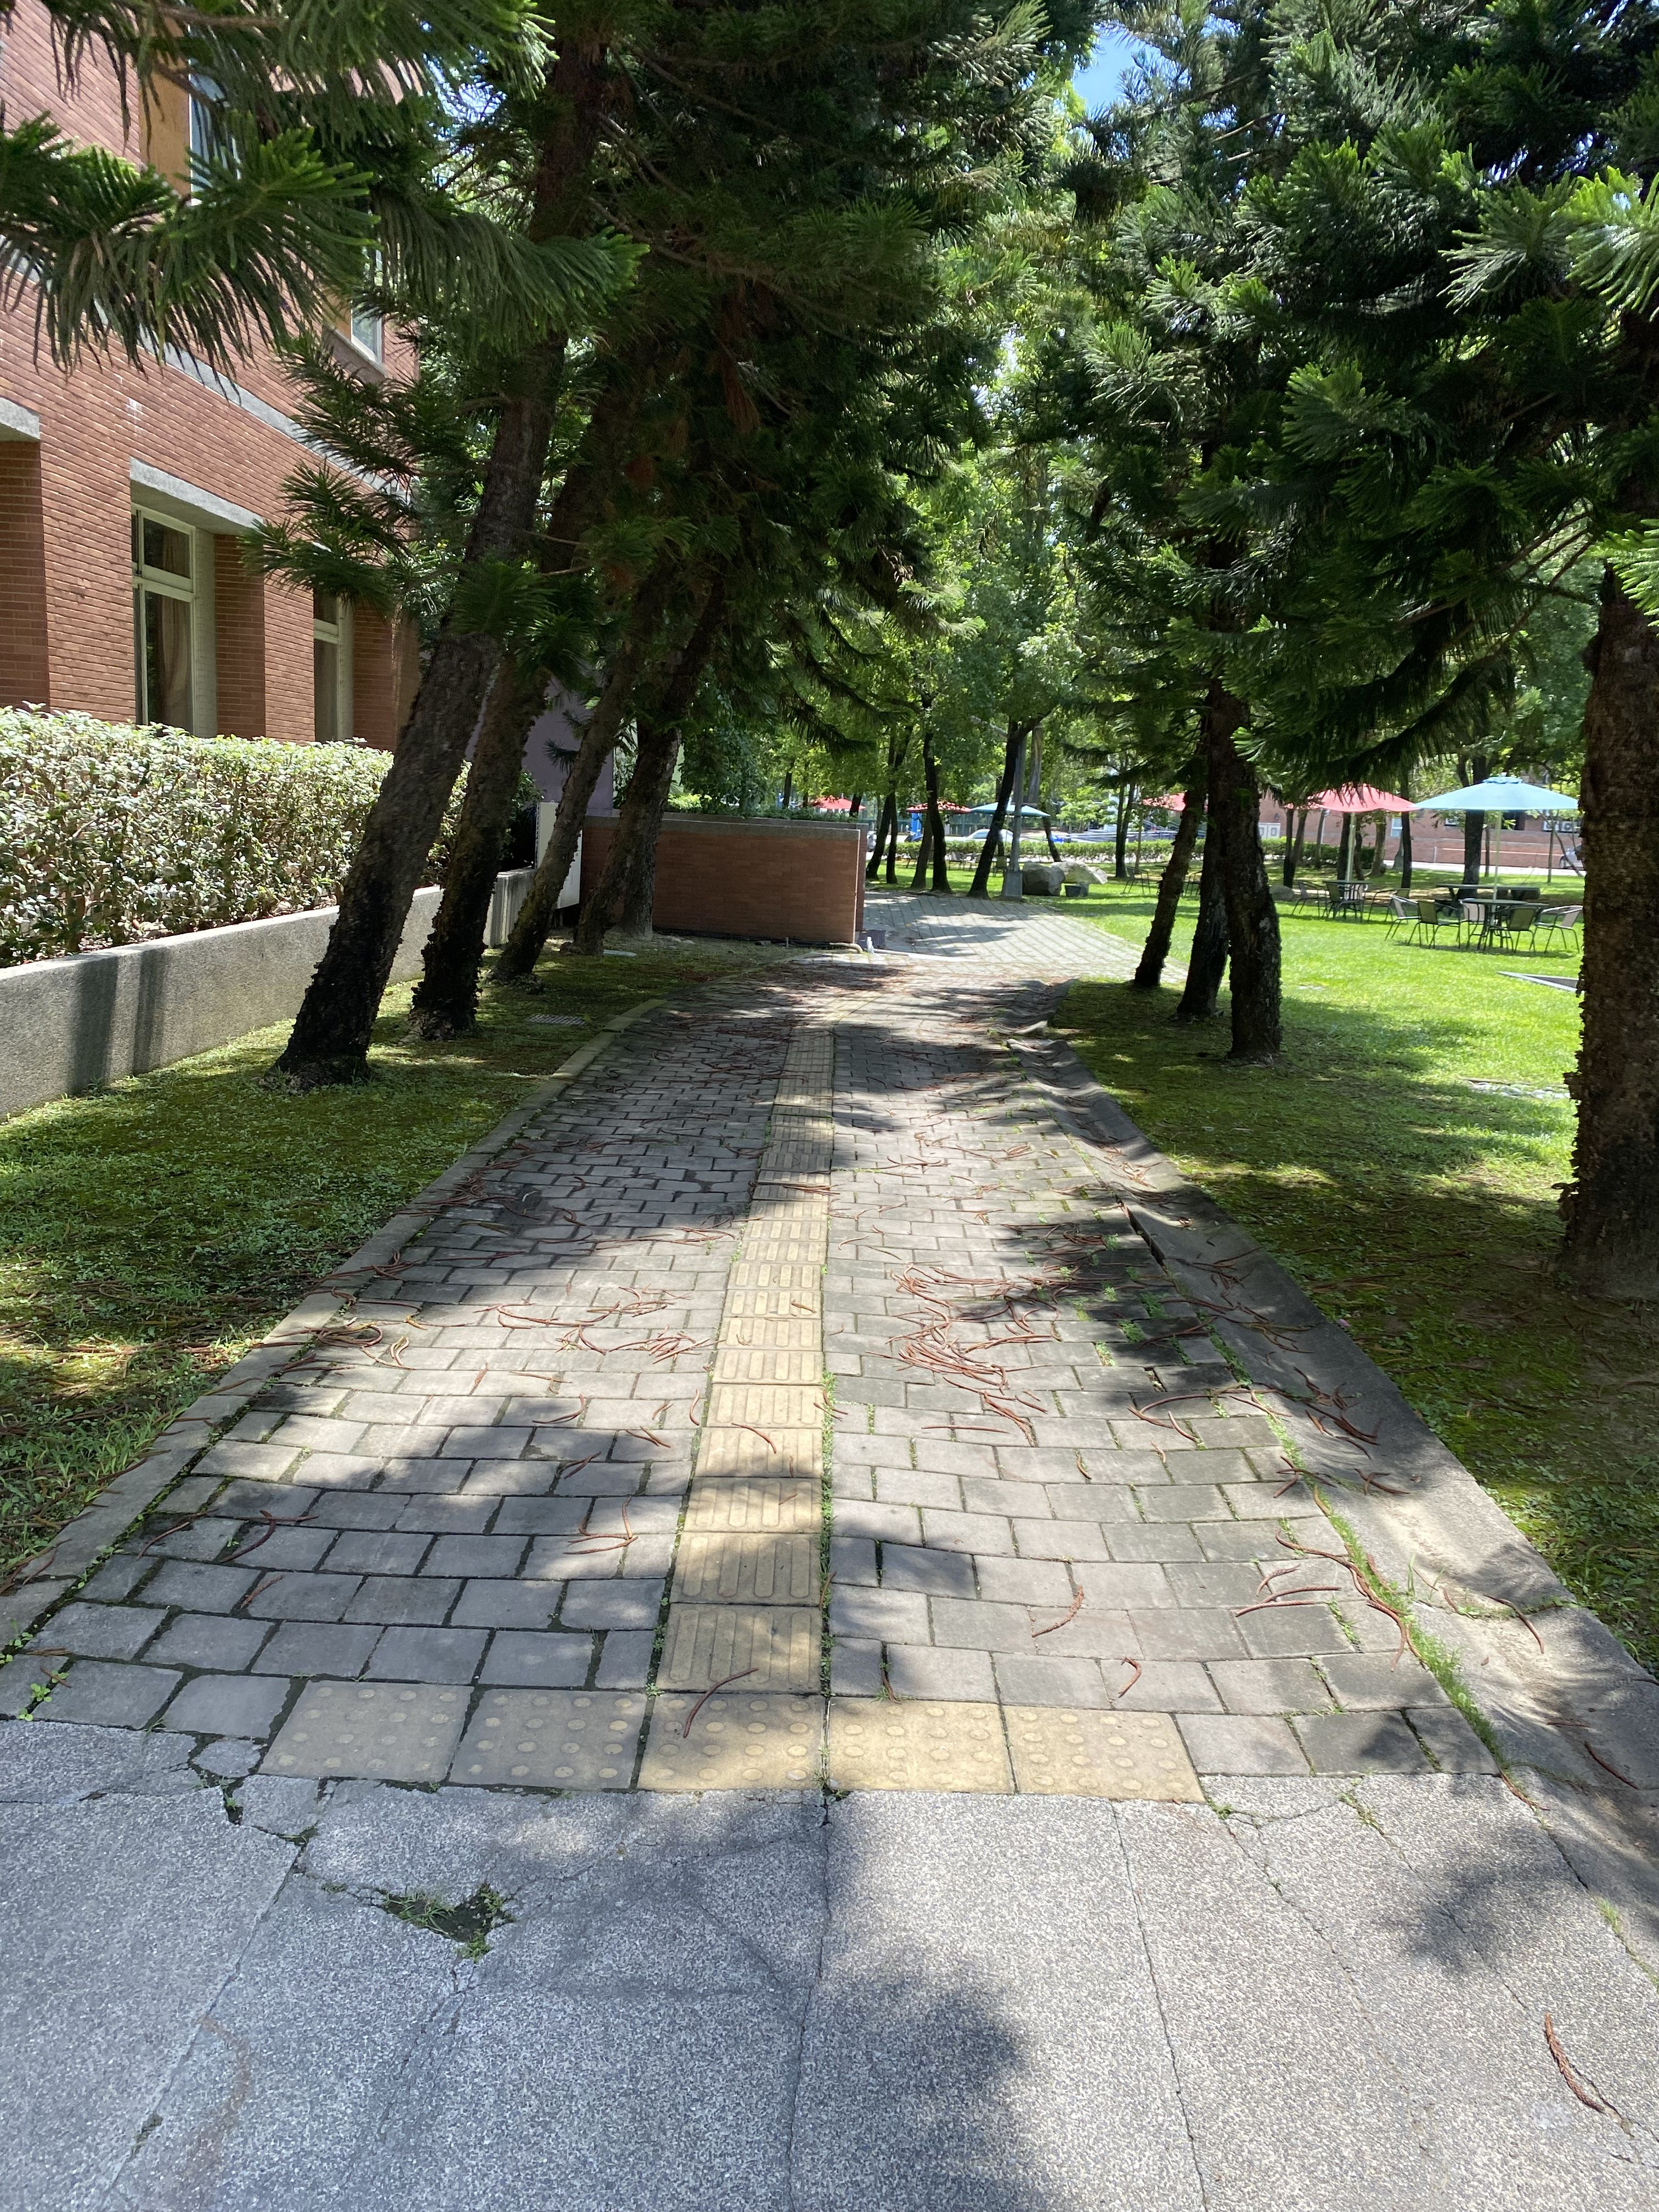sidewalk: (10, 726, 1659, 2212)
